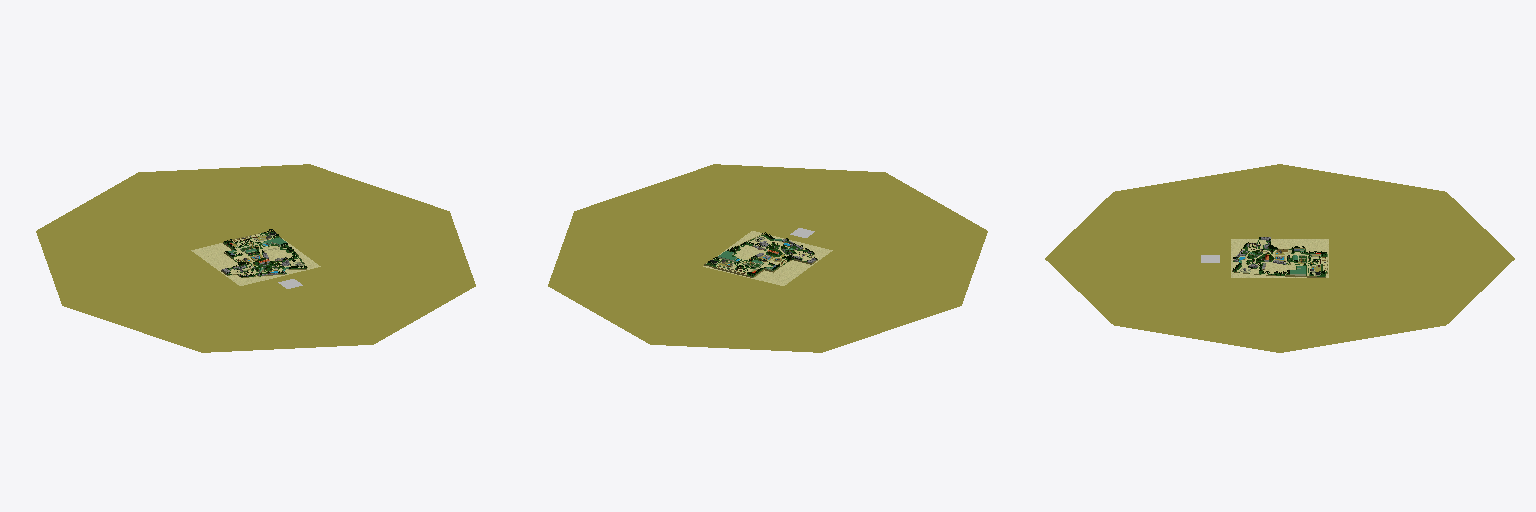
3 renders of one model, left to right at view 1: azimuth 30°, elevation 25°; view 2: azimuth 150°, elevation 25°; view 3: azimuth 270°, elevation 25°, orthographic.
Visible parts, largest first — view 1: ground.blank.001_Plane.011, ground.tex_Plane.004; view 2: ground.blank.001_Plane.011, ground.tex_Plane.004; view 3: ground.blank.001_Plane.011, ground.tex_Plane.004.
Boxes of the visible parts, box(x1,y1,x2,y2) form: ground.blank.001_Plane.011: box(36, 164, 475, 352); ground.tex_Plane.004: box(191, 232, 320, 285); ground.blank.001_Plane.011: box(548, 164, 987, 352); ground.tex_Plane.004: box(703, 231, 832, 285); ground.blank.001_Plane.011: box(1045, 164, 1514, 352); ground.tex_Plane.004: box(1231, 239, 1328, 277).
Size of the model in its own units: 47.62 by 0.6072 by 50.13.
Materials: 43 (15 with a texture image).